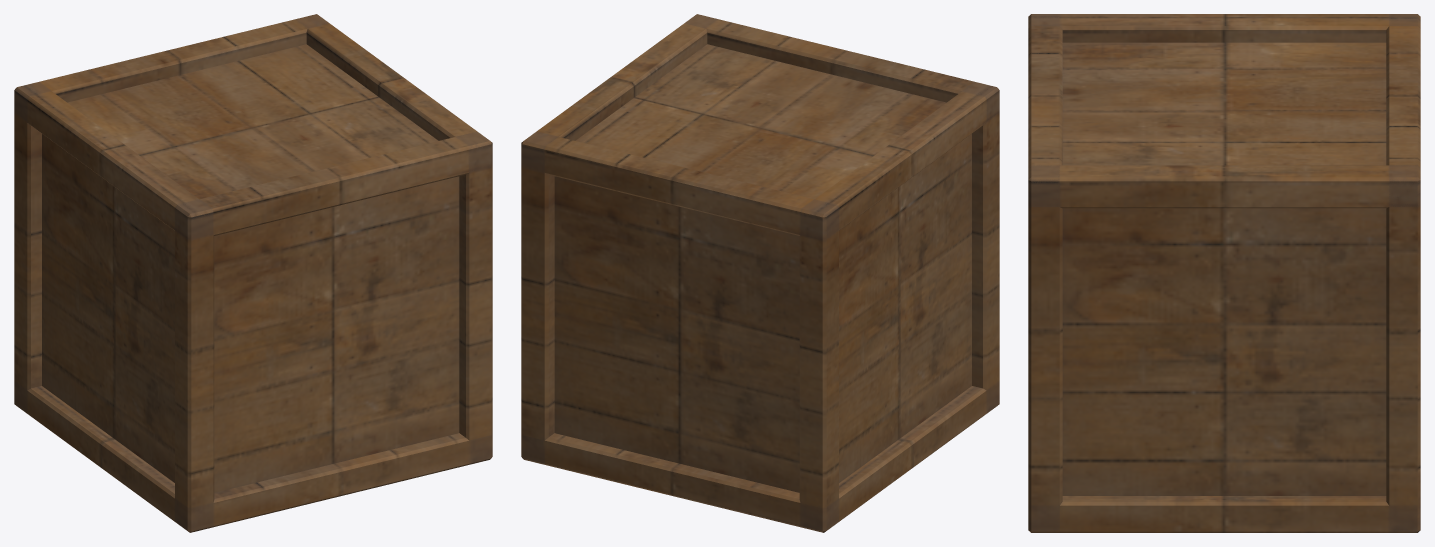
Rendered from Crate.glb.
The picture shows the model from 3 angles, left to right: view 1: azimuth 30°, elevation 25°; view 2: azimuth 150°, elevation 25°; view 3: azimuth 270°, elevation 25°; orthographic projection. The views are drawn at different scales.
Parts seen in each view (by area): view 1: Crate; view 2: Crate; view 3: Crate.
Boxes of the visible parts, <box> form: Crate: <box>14,14,492,532</box>; Crate: <box>521,14,999,532</box>; Crate: <box>1028,14,1420,532</box>.
Size of the model in its own units: 0.8 by 0.8 by 0.8.
1 material, 1 textured.
